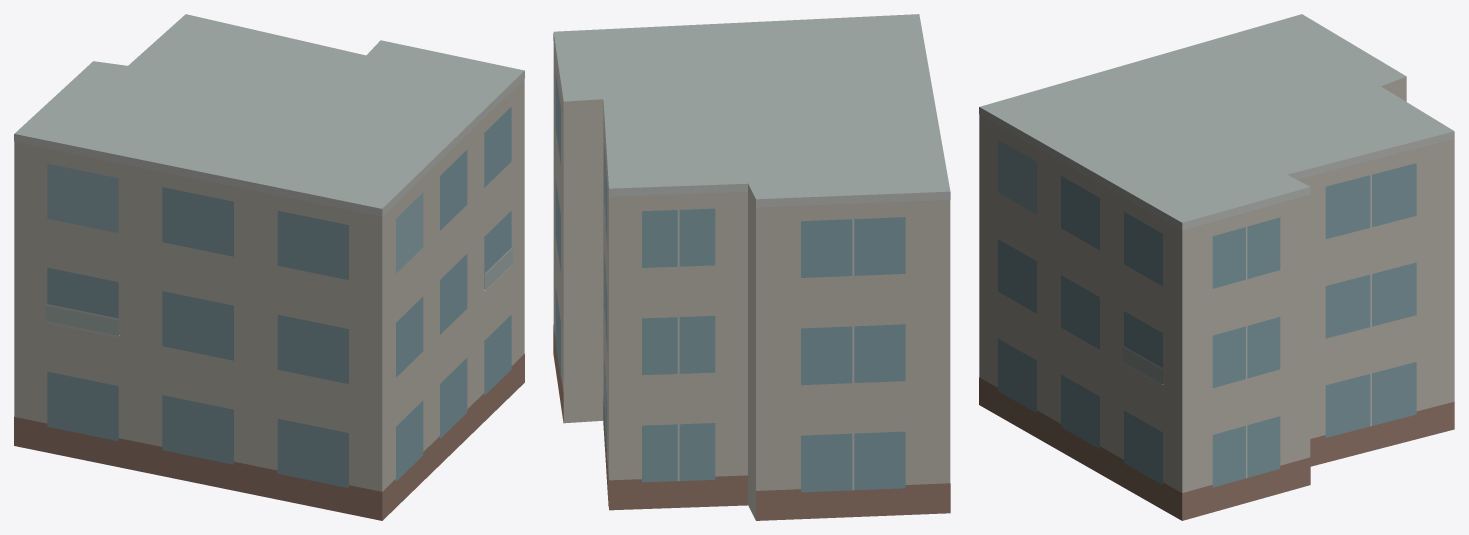
Rendered from survey-upis-32630828.glb.
The picture shows the model from 3 angles, left to right: view 1: azimuth 30°, elevation 25°; view 2: azimuth 150°, elevation 25°; view 3: azimuth 270°, elevation 25°; orthographic projection. The views are drawn at different scales.
Visible parts, largest first — view 1: survey-upis-32630828.tmp; view 2: survey-upis-32630828.tmp; view 3: survey-upis-32630828.tmp.
Part boxes in pixels (x1,y1,x2,y2): survey-upis-32630828.tmp: [14, 14, 524, 520]; survey-upis-32630828.tmp: [553, 14, 950, 520]; survey-upis-32630828.tmp: [979, 14, 1454, 520].
Size of the model in its own units: 14.58 by 9.7 by 14.03.
